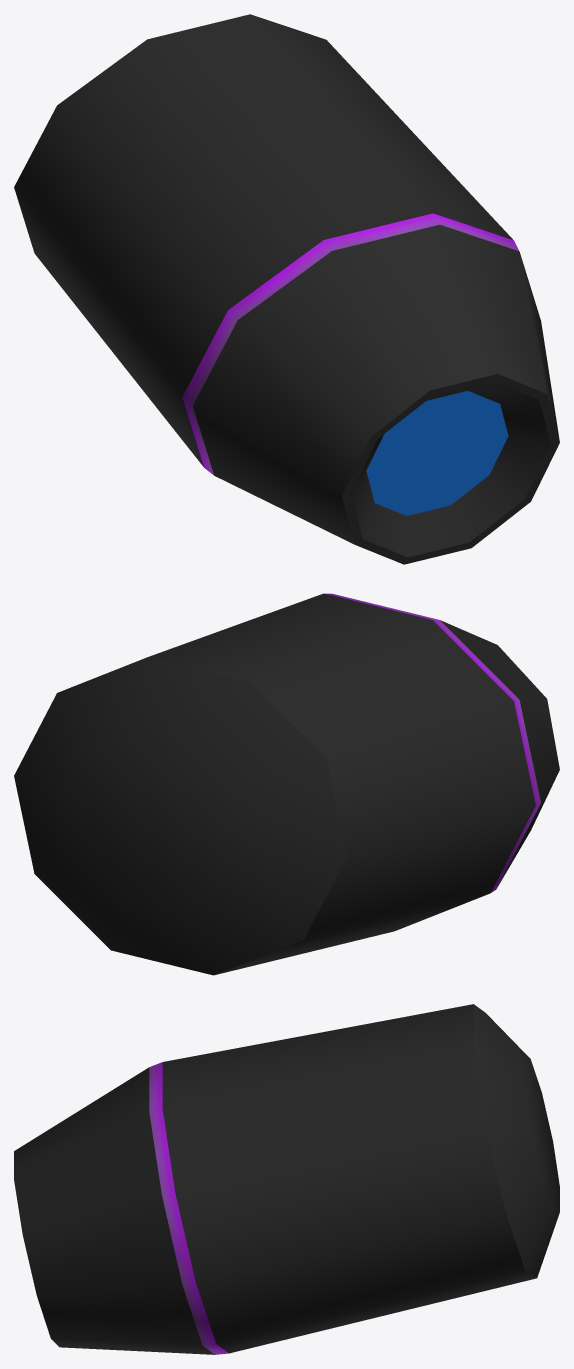
The model's file is Machine_Camera01.fbx.
3 renders of one model, top to bottom at view 1: azimuth 30°, elevation 25°; view 2: azimuth 150°, elevation 25°; view 3: azimuth 270°, elevation 25°, orthographic. The views are drawn at different scales.
Visible parts, largest first — view 1: Machine_Camera01; view 2: Machine_Camera01; view 3: Machine_Camera01.
Boxes of the visible parts, x1,y1,x2,y2 form: Machine_Camera01: (14,14,559,564); Machine_Camera01: (14,593,559,975); Machine_Camera01: (14,1004,559,1354).
Size of the model in its own units: 0.2454 by 0.2352 by 0.3787.
